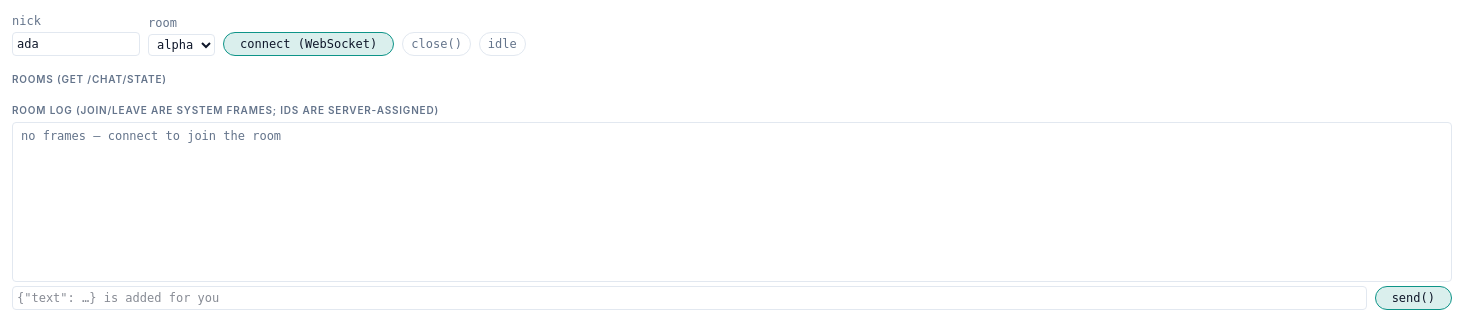
Scenario: ChatDemo › stays closed after a drop — reconnect is client discipline, not the socket's
The image size is (1464, 336).
Click the button with test id "realtime-chat-connect": (309, 44) left=223, top=32, right=394, bottom=56
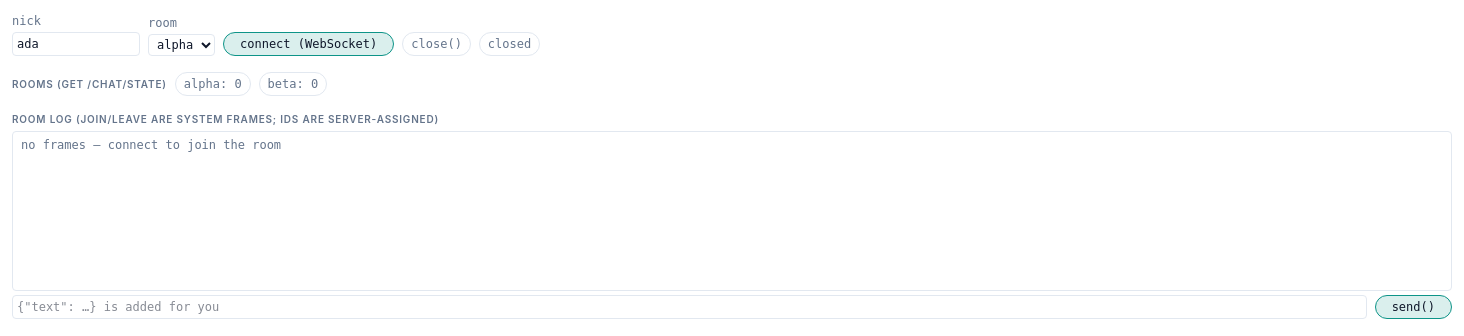
expect the text with test id "realtime-chat-connection" reads "closed": met, box left=488, top=37, right=531, bottom=51
